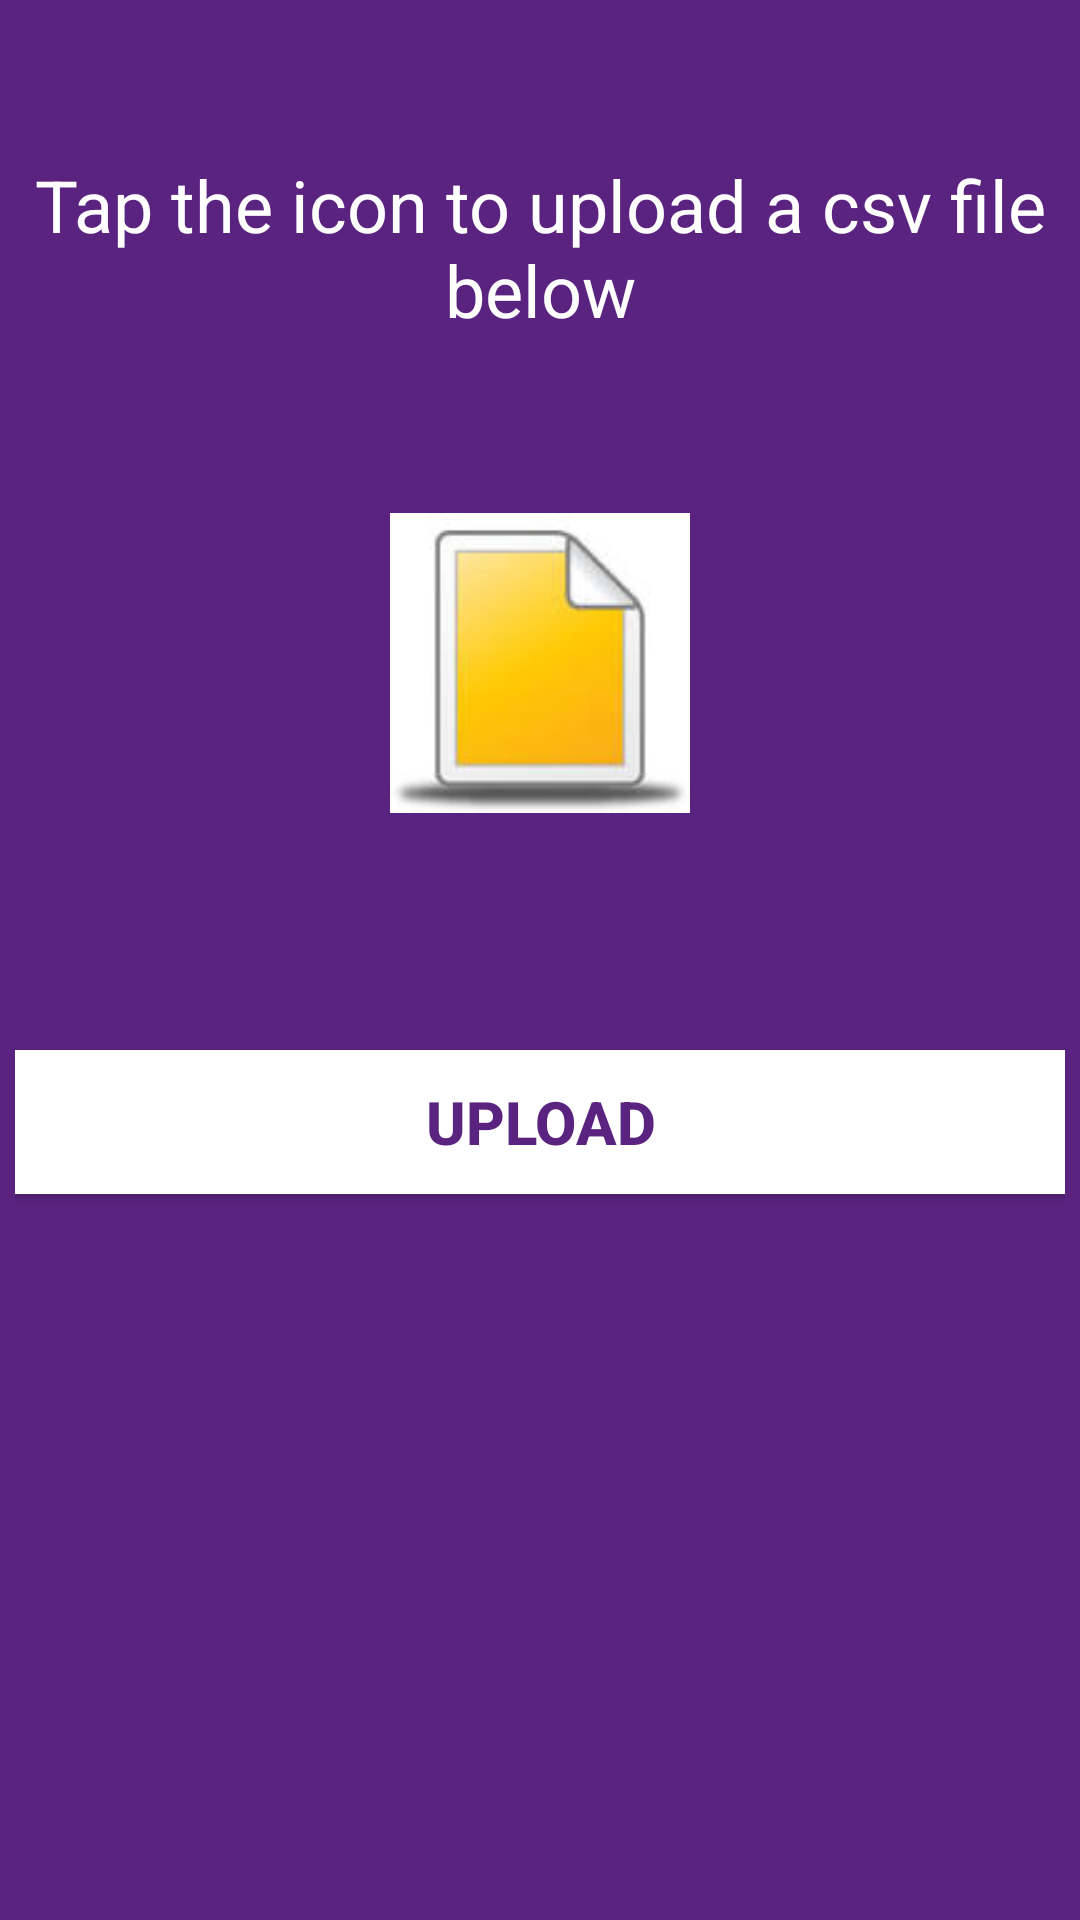

Icons on this 1080px×1920px Android screen, each with its box as (x1, y1, x2, y2):
fileicon: (390, 513, 690, 813)
